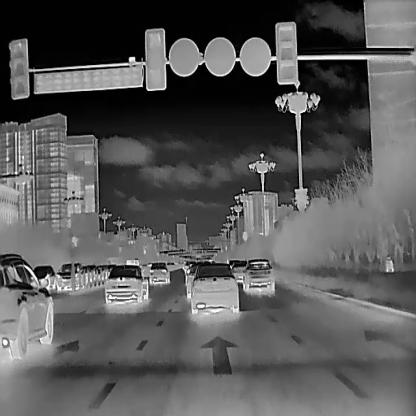car: (0, 252, 53, 358), (190, 263, 237, 312), (104, 263, 148, 304), (243, 258, 274, 294), (54, 262, 84, 290), (29, 264, 55, 293), (147, 260, 170, 283), (186, 262, 201, 296), (232, 259, 248, 282)
